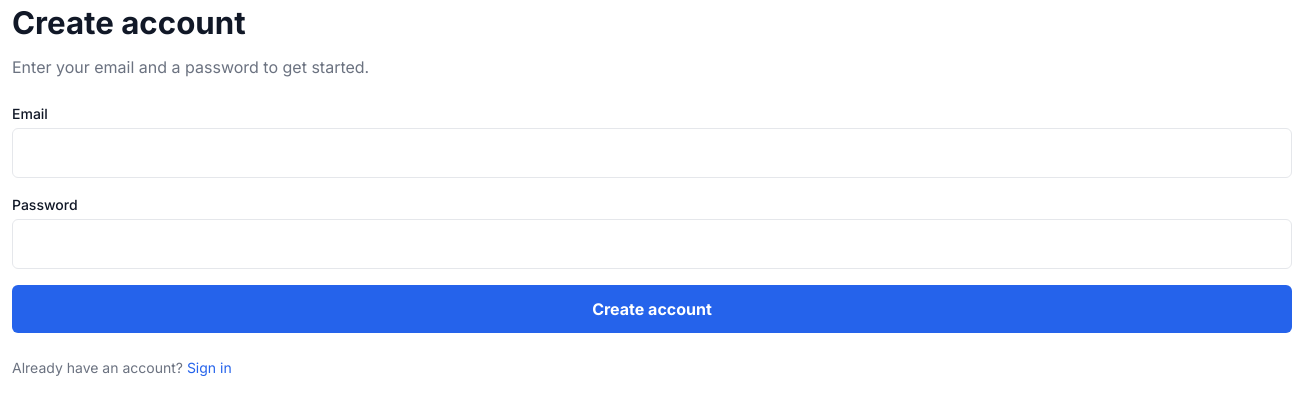
Test case: SignUpForm › disables the submit button while the request is in flight
The width and height of the screenshot is (1304, 393).
Type "new@b.com" into the field labelled "Email" at [652, 153], box [12,128,1292,178]
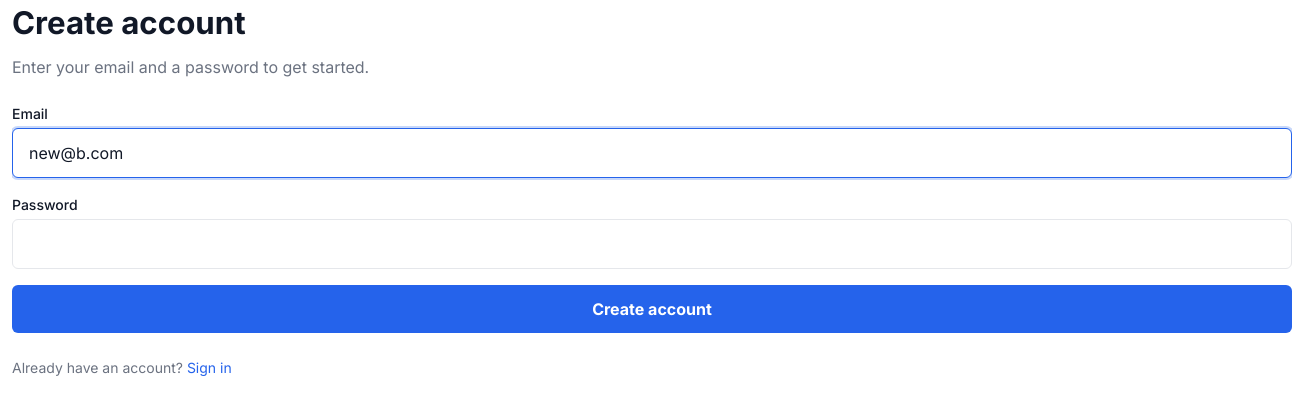
Type "secret123" into the password field labelled "Password" at [652, 244], box [12,219,1292,269]
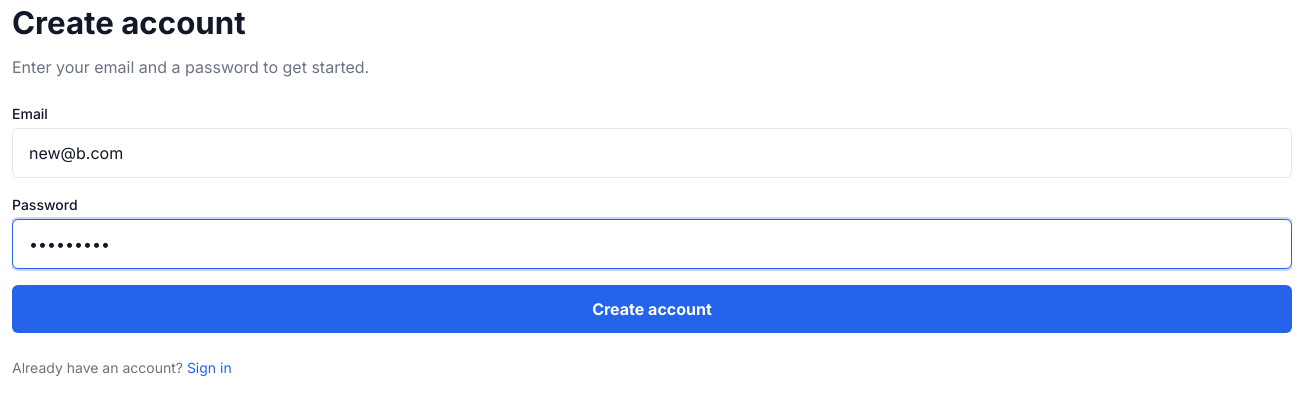
Click the button "Create account" at [652, 309], box [12,285,1292,333]
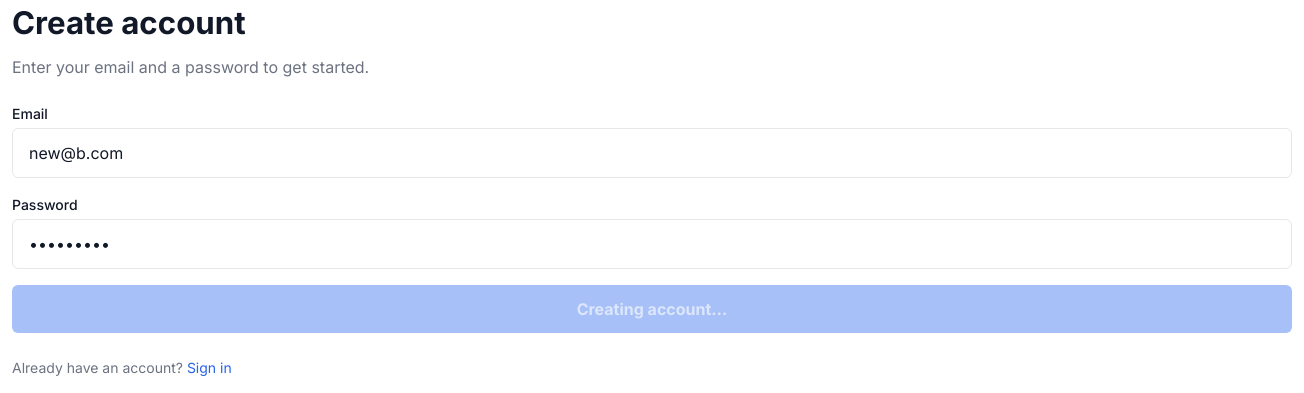
Check: the button "Creating account…" is disabled, box [12,285,1292,333]
